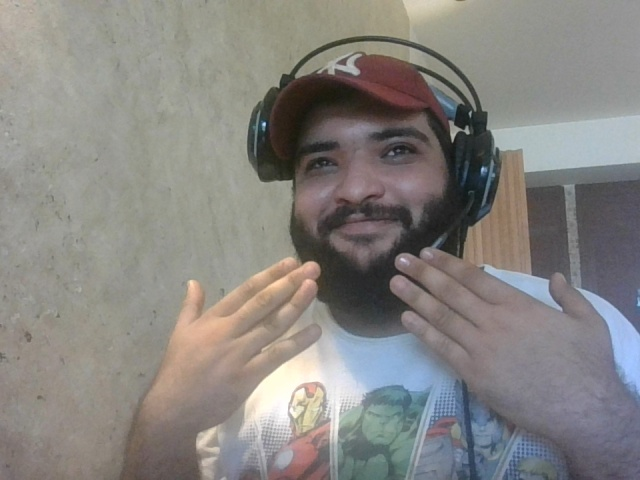thanks: (156, 247, 620, 437)
